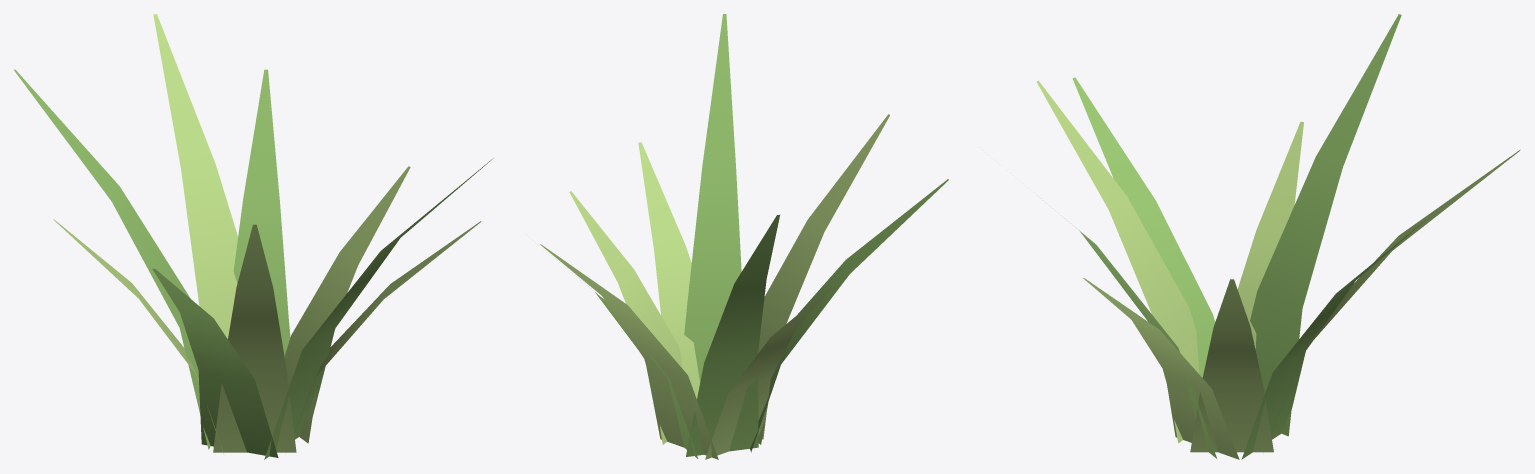
The model's file is gourd-prop-grass-tuft.glb.
The picture shows the model from 3 angles, left to right: view 1: azimuth 30°, elevation 25°; view 2: azimuth 150°, elevation 25°; view 3: azimuth 270°, elevation 25°; orthographic projection. The views are drawn at different scales.
Parts seen in each view (by area): view 1: b2, b6, b5, b1, b0, b3, b7, b8, b4; view 2: b7, b3, b8, b2, b6, b4, b0, b5, b1; view 3: b3, b0, b6, b5, b8, b4, b1, b2, b7.
Part boxes in pixels (bbox=[...]): b2: bbox=[153, 14, 237, 338]; b6: bbox=[213, 224, 296, 452]; b5: bbox=[152, 268, 278, 457]; b1: bbox=[233, 69, 290, 357]; b0: bbox=[285, 166, 410, 443]; b3: bbox=[14, 69, 210, 449]; b7: bbox=[264, 158, 493, 459]; b8: bbox=[294, 221, 481, 432]; b4: bbox=[53, 219, 223, 453]; b7: bbox=[684, 14, 741, 382]; b3: bbox=[686, 215, 779, 456]; b8: bbox=[638, 142, 699, 398]; b2: bbox=[540, 244, 718, 459]; b6: bbox=[758, 114, 889, 444]; b4: bbox=[705, 286, 832, 459]; b0: bbox=[569, 191, 682, 444]; b5: bbox=[750, 179, 948, 452]; b1: bbox=[595, 292, 698, 458]; b3: bbox=[1250, 14, 1401, 436]; b0: bbox=[1190, 279, 1273, 452]; b6: bbox=[1037, 80, 1199, 442]; b5: bbox=[1072, 77, 1215, 377]; b8: bbox=[1083, 278, 1239, 459]; b4: bbox=[1237, 121, 1303, 349]; b1: bbox=[1241, 219, 1426, 459]; b2: bbox=[1271, 149, 1520, 434]; b7: bbox=[1064, 218, 1216, 458].
Bounding box in the file's own units: 0.0409 × 0.04 × 0.0571.
